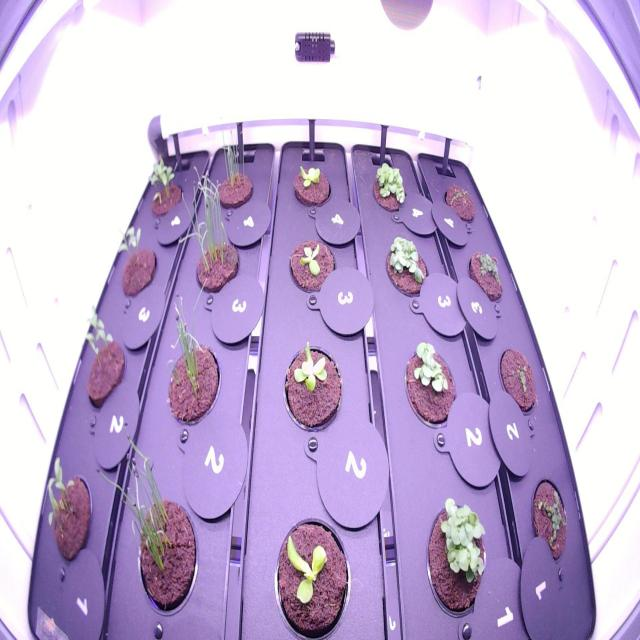germination: (93, 422, 209, 628), (158, 270, 225, 434), (174, 162, 244, 301), (420, 493, 491, 630), (40, 449, 97, 571), (399, 335, 464, 434), (78, 300, 130, 418), (108, 217, 162, 306), (209, 118, 259, 212), (527, 473, 573, 573), (493, 338, 540, 424), (378, 229, 432, 302), (140, 149, 187, 227), (464, 244, 507, 314), (368, 160, 414, 217), (440, 174, 478, 228)
young: (270, 506, 353, 638), (277, 333, 346, 437), (284, 234, 340, 302), (288, 159, 335, 213)
